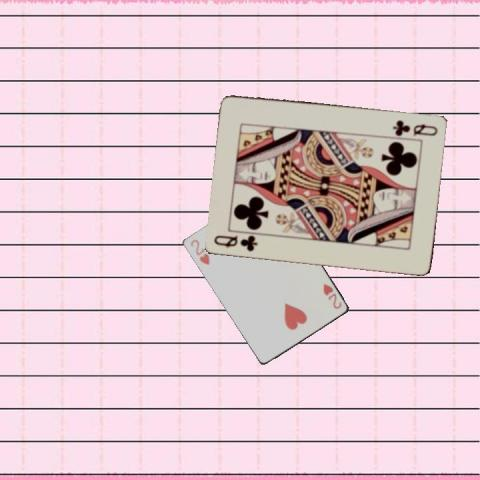2h: (188, 236, 211, 266), (321, 280, 343, 310)
Qc: (212, 231, 260, 253), (390, 117, 439, 137)
